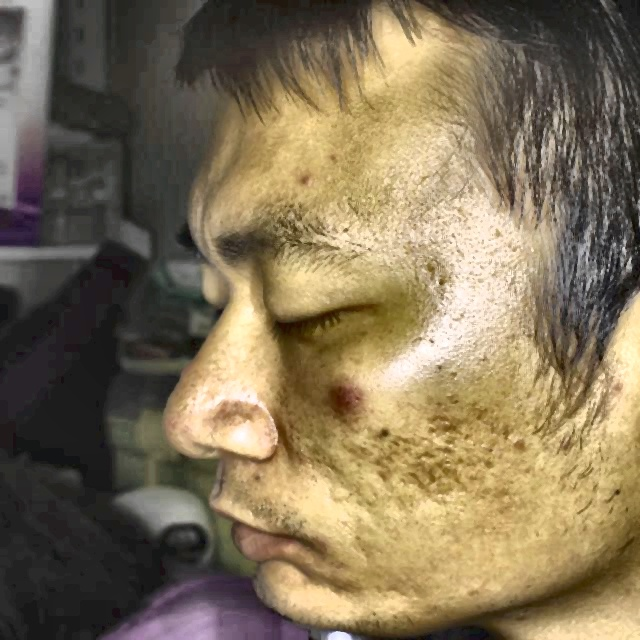comedone: (330, 374, 366, 417)
